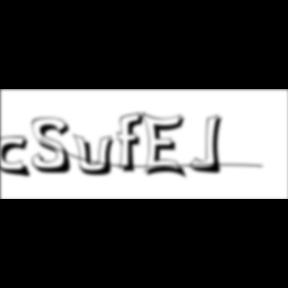E: (143, 110, 192, 182)
J: (189, 114, 228, 176)
S: (32, 117, 78, 176)
c: (1, 136, 36, 180)
f: (118, 111, 150, 175)
u: (73, 132, 121, 178)
